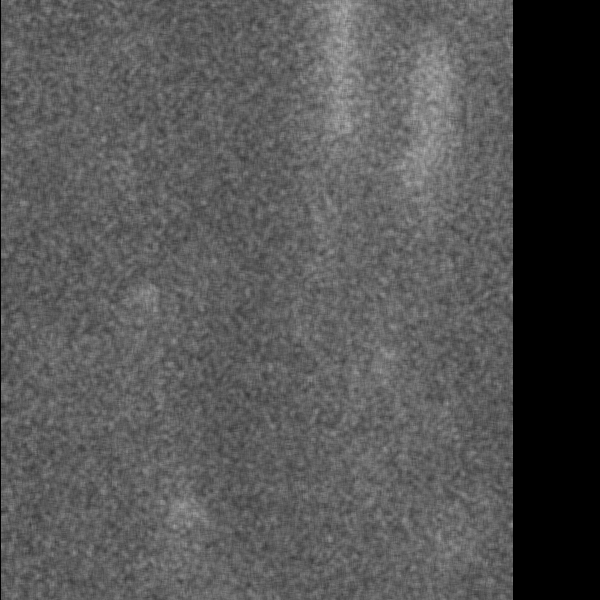spark: (316, 1, 358, 248), (419, 7, 449, 293)
